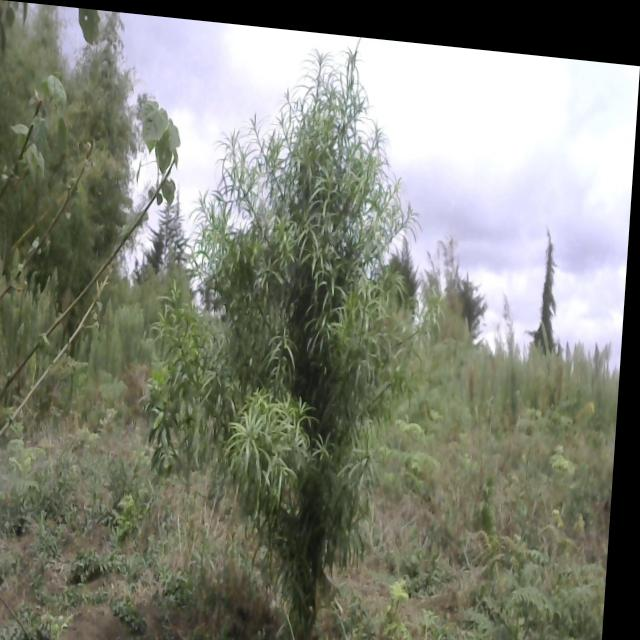Podocarpus falcatus: (141, 17, 503, 640)
cedrus: (522, 195, 578, 342)
